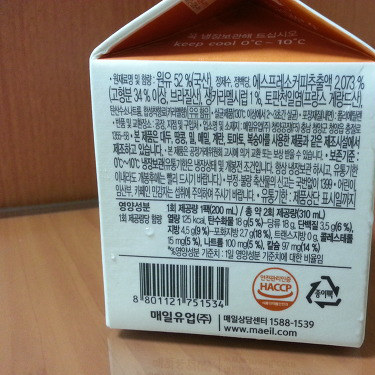milk: (89, 1, 375, 349)
